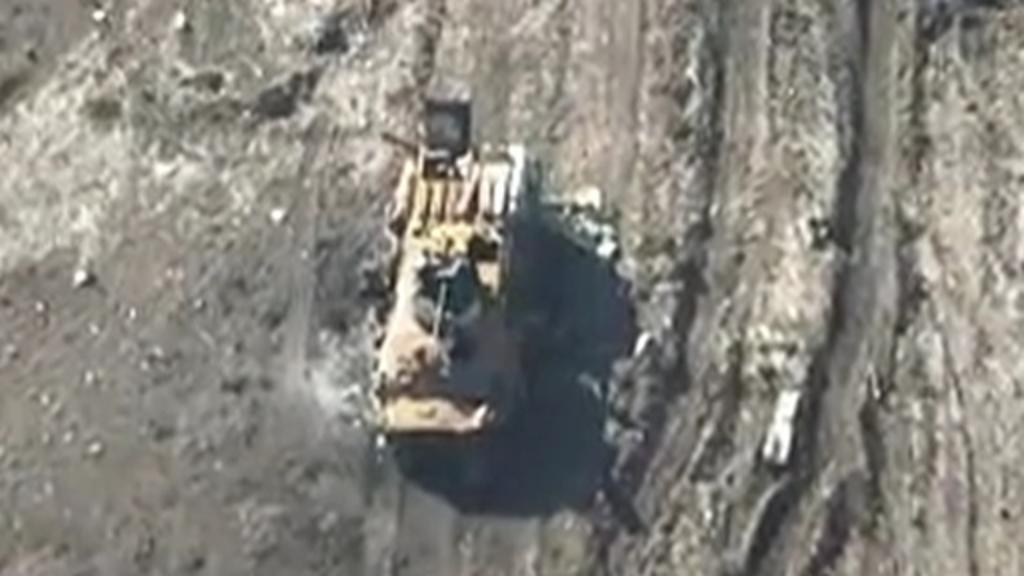APC-IFV: (350, 124, 544, 458)
